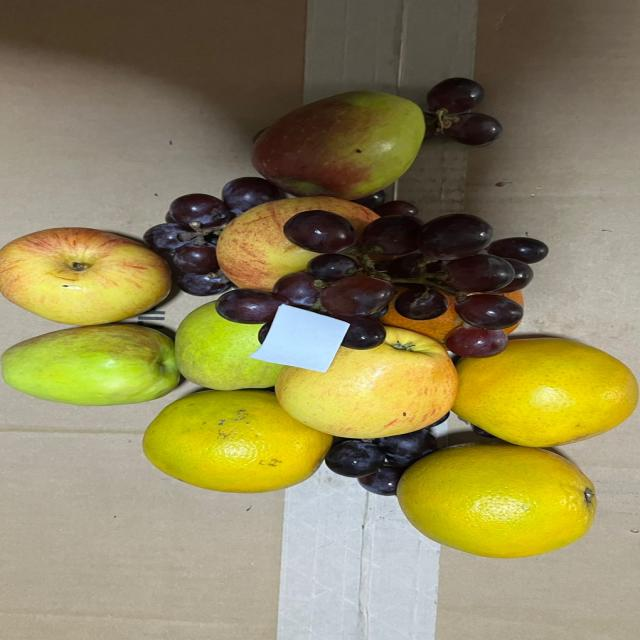hoja: (256, 307, 348, 373)
